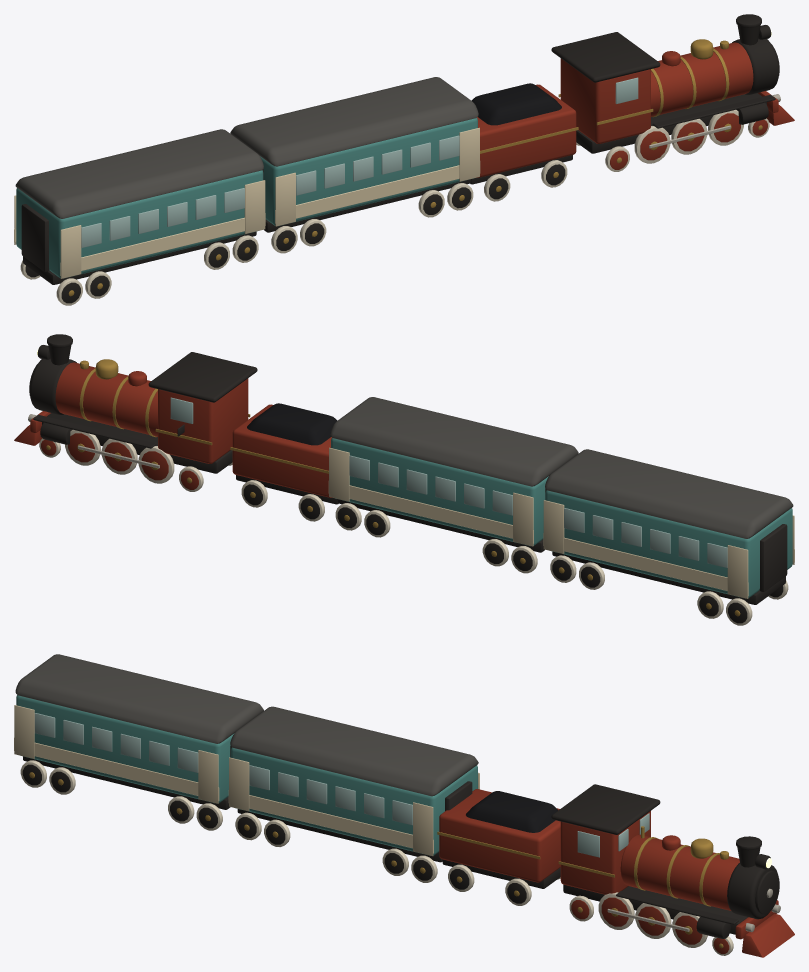
Rendered from train.glb.
3 renders of one model, top to bottom at view 1: azimuth 30°, elevation 25°; view 2: azimuth 150°, elevation 25°; view 3: azimuth 330°, elevation 25°, orthographic.
Parts seen in each view (by area): view 1: Train_Coach2, Train_Coach1, Train, Train_Tender, Train_Loco_Driver1_R, Train_Loco_Driver2_R, Train_Loco_Driver3_R, Train_Coach2_Wheel2_R, Train_Coach1_Wheel3_R, Train_Coach1_Wheel1_R, Train_Coach2_Wheel1_R, Train_Coach1_Wheel2_R (+5 smaller); view 2: Train_Coach2, Train_Coach1, Train, Train_Tender, Train_Loco_Driver1_L, Train_Loco_Driver2_L, Train_Loco_Driver3_L, Train_Coach2_Wheel2_L, Train_Coach1_Wheel3_L, Train_Coach1_Wheel1_L, Train_Coach2_Wheel1_L, Train_Coach1_Wheel2_L (+5 smaller); view 3: Train_Coach1, Train_Coach2, Train, Train_Tender, Train_Loco_Driver1_R, Train_Loco_Driver2_R, Train_Loco_Driver3_R, Train_Coach2_Wheel2_R, Train_Coach1_Wheel1_R, Train_Coach1_Wheel3_R, Train_Coach2_Wheel1_R, Train_Coach2_Wheel3_R (+5 smaller).
Boxes of the visible parts, x1,y1,x2,y2 form: Train_Coach2: (14, 129, 265, 284); Train_Coach1: (230, 77, 480, 232); Train: (551, 14, 794, 153); Train_Tender: (470, 83, 578, 184); Train_Loco_Driver1_R: (634, 126, 670, 163); Train_Loco_Driver2_R: (671, 118, 707, 154); Train_Loco_Driver3_R: (708, 109, 743, 145); Train_Coach2_Wheel2_R: (85, 271, 111, 298); Train_Coach1_Wheel3_R: (418, 190, 444, 217); Train_Coach1_Wheel1_R: (271, 226, 297, 253); Train_Coach2_Wheel1_R: (56, 278, 82, 305); Train_Coach1_Wheel2_R: (300, 219, 326, 246); Train_Coach2: (543, 449, 794, 604); Train_Coach1: (328, 397, 578, 552); Train: (14, 334, 257, 473); Train_Tender: (230, 403, 338, 504); Train_Loco_Driver1_L: (138, 446, 174, 483); Train_Loco_Driver2_L: (101, 438, 137, 474); Train_Loco_Driver3_L: (65, 429, 100, 465); Train_Coach2_Wheel2_L: (697, 591, 723, 618); Train_Coach1_Wheel3_L: (364, 510, 390, 537); Train_Coach1_Wheel1_L: (511, 546, 537, 573); Train_Coach2_Wheel1_L: (726, 598, 752, 625); Train_Coach1_Wheel2_L: (482, 539, 508, 566); Train_Coach1: (228, 706, 479, 862); Train_Coach2: (14, 654, 263, 809); Train: (551, 784, 794, 957); Train_Tender: (437, 789, 560, 888); Train_Loco_Driver1_R: (598, 892, 634, 929); Train_Loco_Driver2_R: (635, 903, 671, 938); Train_Loco_Driver3_R: (672, 912, 707, 947); Train_Coach2_Wheel2_R: (49, 767, 75, 794); Train_Coach1_Wheel1_R: (235, 812, 261, 840); Train_Coach1_Wheel3_R: (382, 848, 408, 875); Train_Coach2_Wheel1_R: (20, 760, 46, 787); Train_Coach2_Wheel3_R: (168, 796, 194, 823).
Size of the model in its own units: 18.25 by 2.46 by 2.07.
